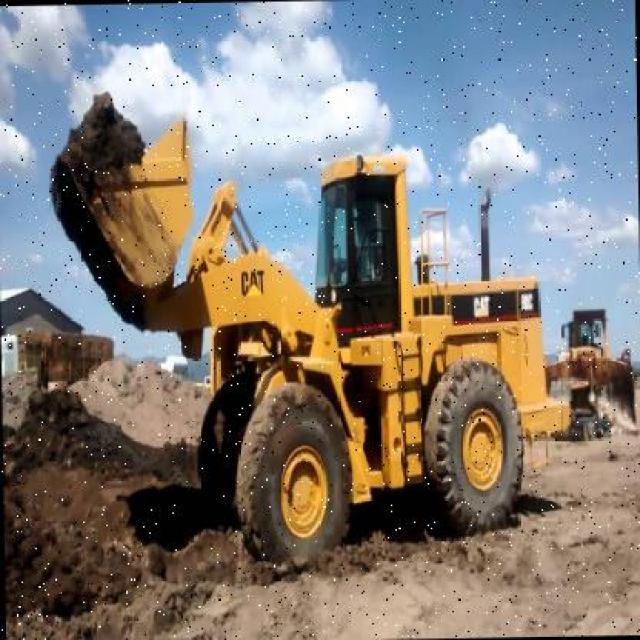buldozerpayloadergrader: (86, 94, 556, 572)
